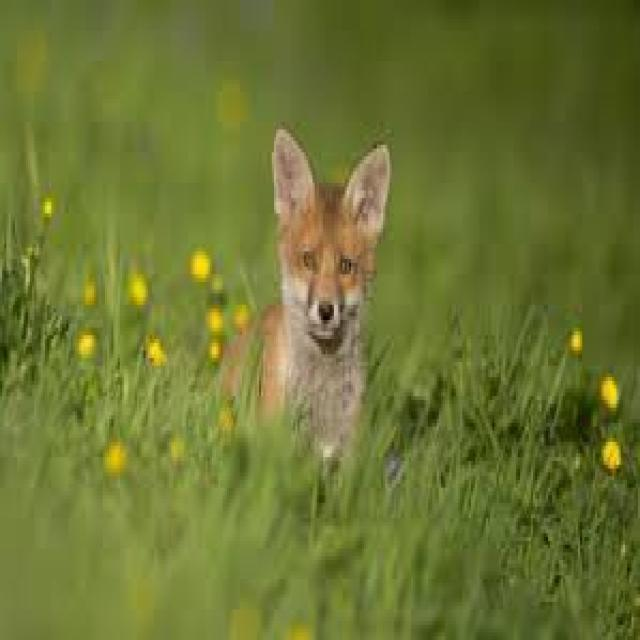fox: (216, 122, 392, 480)
